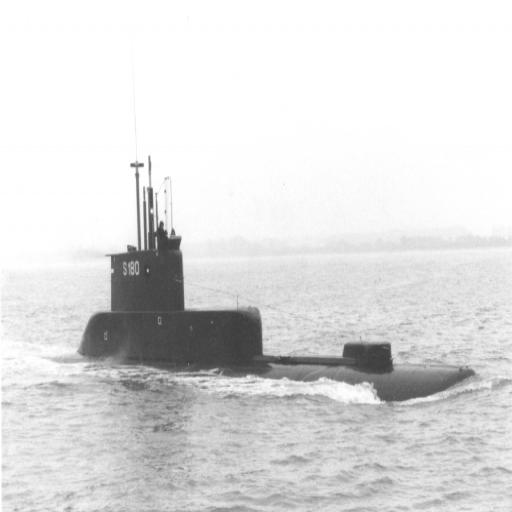submarine: (78, 153, 483, 402)
